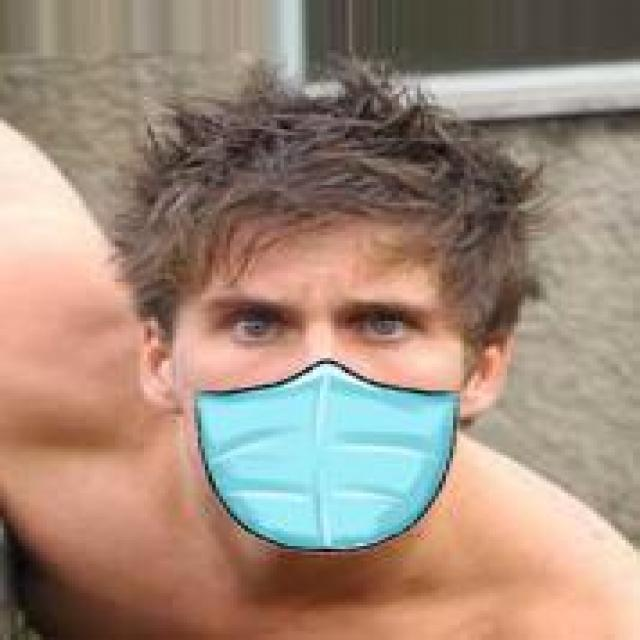mask: (151, 117, 521, 561)
